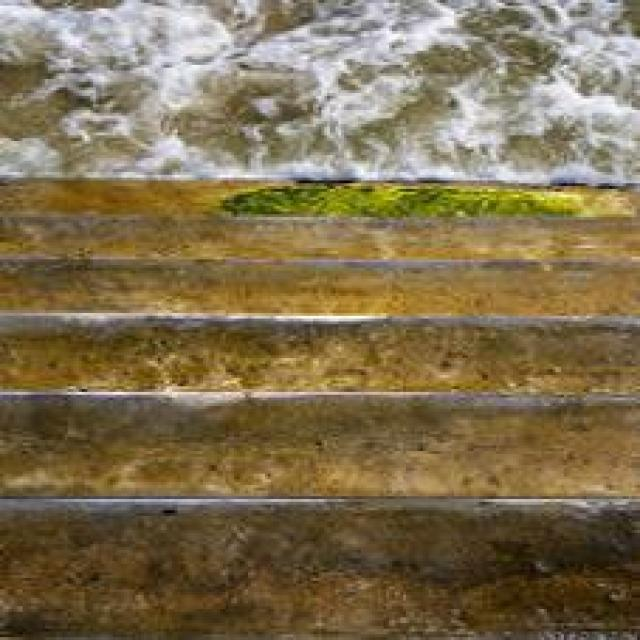upstair: (4, 162, 638, 520)
